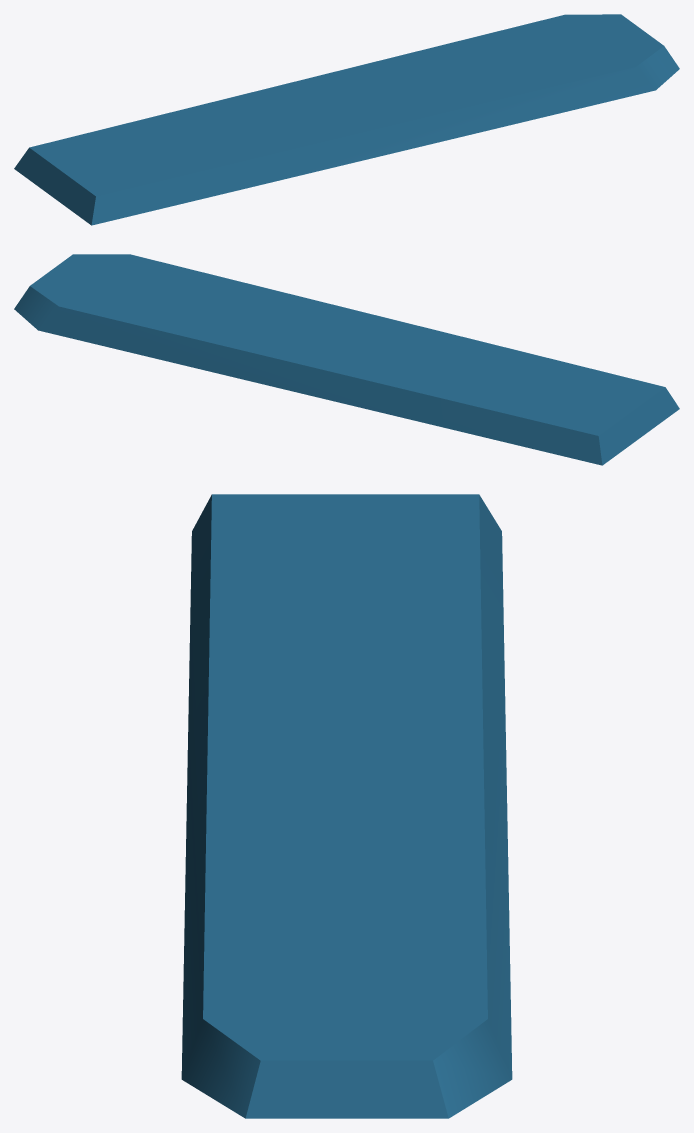
The model's file is SM_Env_Divider_Half_01_Collision.fbx.
3 renders of one model, top to bottom at view 1: azimuth 30°, elevation 25°; view 2: azimuth 150°, elevation 25°; view 3: azimuth 270°, elevation 25°, orthographic. The views are drawn at different scales.
Visible parts, largest first — view 1: SM_Env_Divider_Half_01_Collision; view 2: SM_Env_Divider_Half_01_Collision; view 3: SM_Env_Divider_Half_01_Collision.
Boxes of the visible parts, x1,y1,x2,y2 form: SM_Env_Divider_Half_01_Collision: [14, 14, 679, 225]; SM_Env_Divider_Half_01_Collision: [14, 254, 679, 465]; SM_Env_Divider_Half_01_Collision: [181, 494, 512, 1118].
Size of the model in its own units: 655 by 24.11 by 156.
